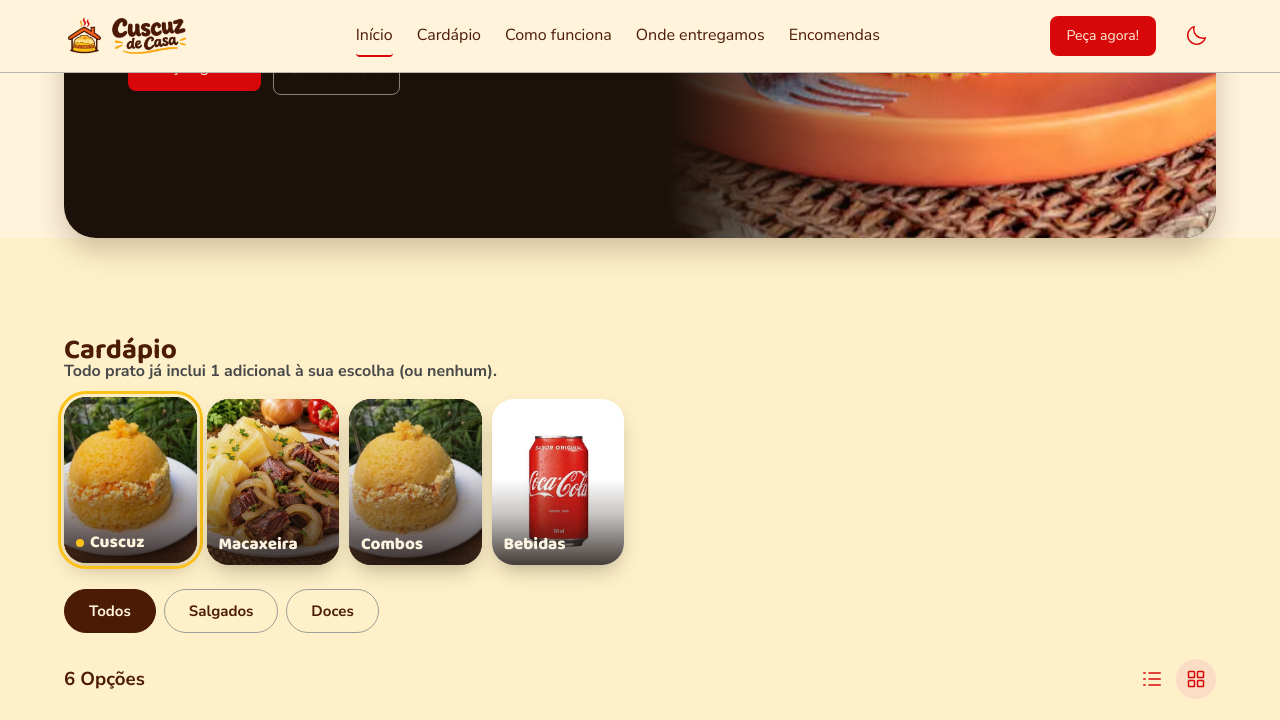
it: navegação do cardápio (seção #cardapio da Home) › trocar de aba mantém a âncora e não rola a página para o topo
(page scrolled)
What coordinates should you click on to do the following:
click the tab "Doces"
I would click on:
 (333, 611)
Its box is [286,589,379,633].
(page scrolled)
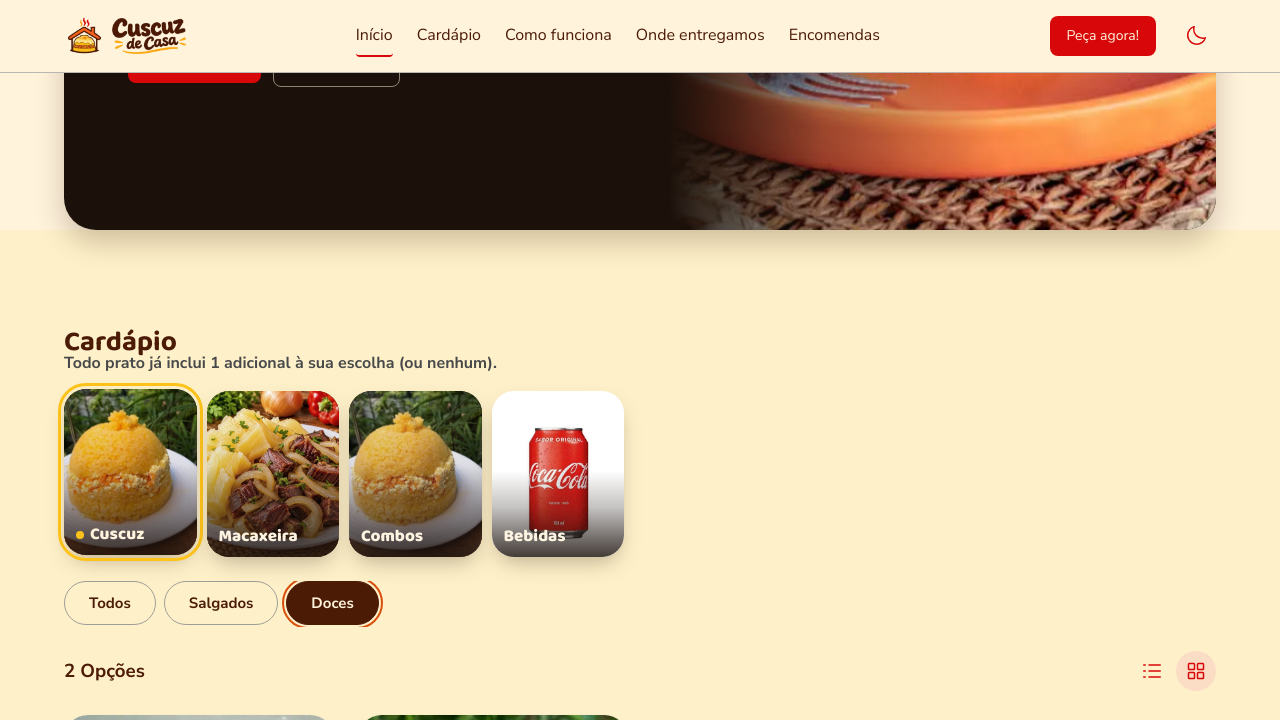
What coordinates should you click on to do the following:
click the button "Macaxeira"
I would click on:
 (273, 474)
Its box is [206,391,339,557].
(page scrolled)
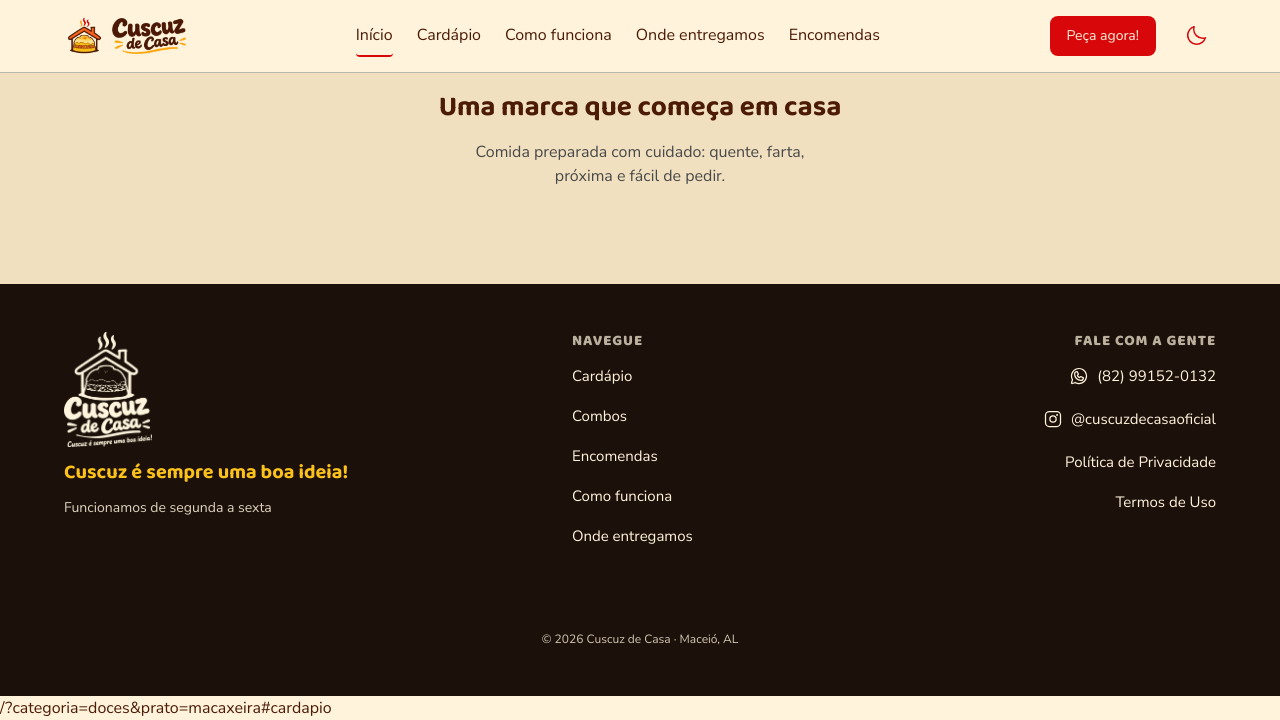
Check: the text with test id "local" reads "/?categoria=doces&prato=macaxeira#cardapio", box [0,698,332,719]
